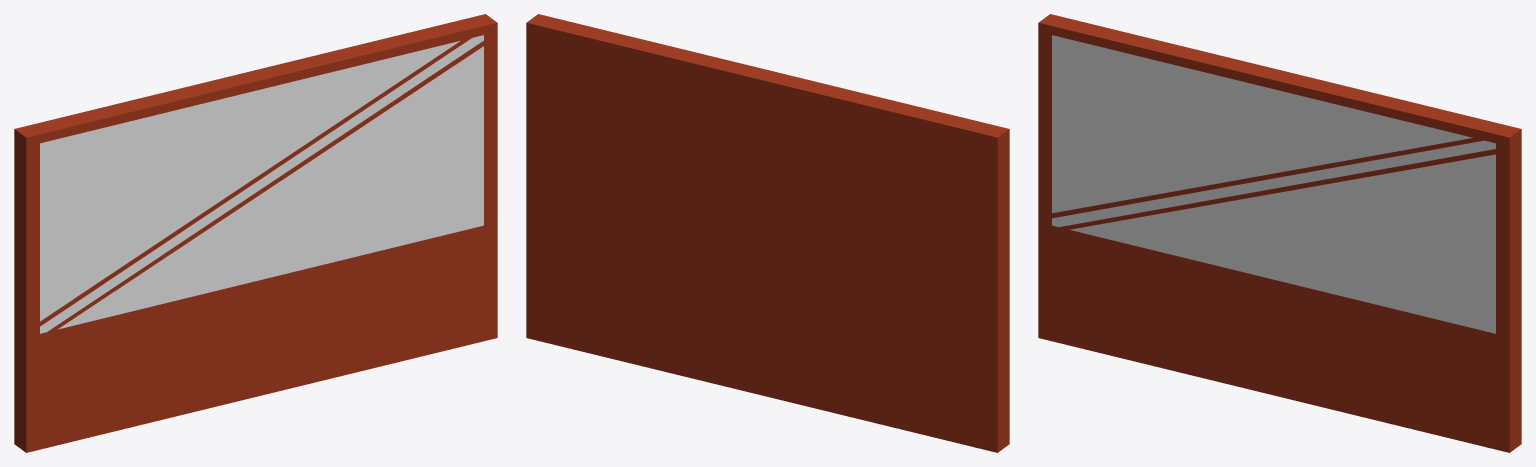
File: controlled area.fbx
The picture shows the model from 3 angles, left to right: view 1: azimuth 30°, elevation 25°; view 2: azimuth 150°, elevation 25°; view 3: azimuth 330°, elevation 25°; orthographic projection.
Parts seen in each view (by area): view 1: Cube.001; view 2: Cube.001; view 3: Cube.001.
Part boxes in pixels (x1,y1,x2,y2): Cube.001: (14,14,497,452); Cube.001: (526,14,1009,452); Cube.001: (1038,14,1521,452).
Size of the model in its own units: 160 by 102 by 6.98.
1 material, 1 textured.
